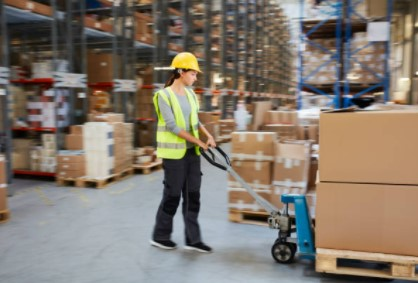stock: (320, 111, 418, 185)
worker: (154, 53, 201, 158)
